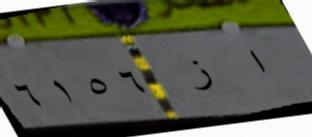1: (12, 80, 43, 115), (51, 70, 75, 110)
5: (85, 68, 113, 102)
6: (115, 70, 148, 98)
alif: (245, 41, 272, 80)
zay: (186, 54, 216, 101)
